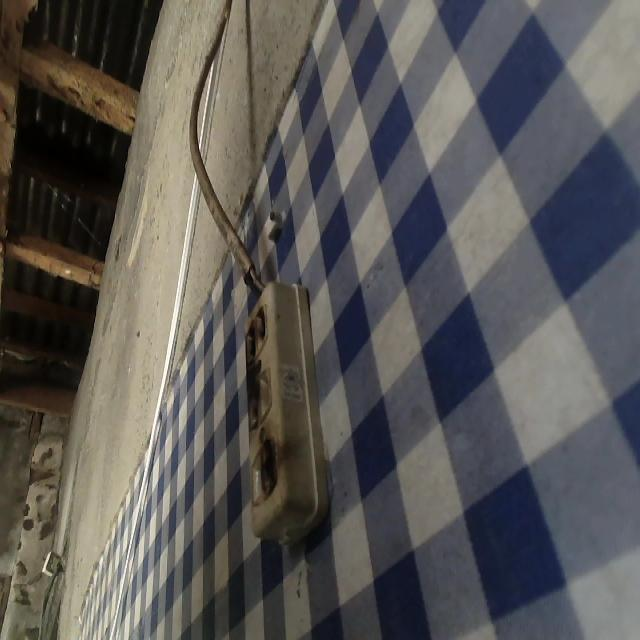-: (242, 304, 266, 360), (256, 439, 279, 493), (243, 372, 263, 428)
